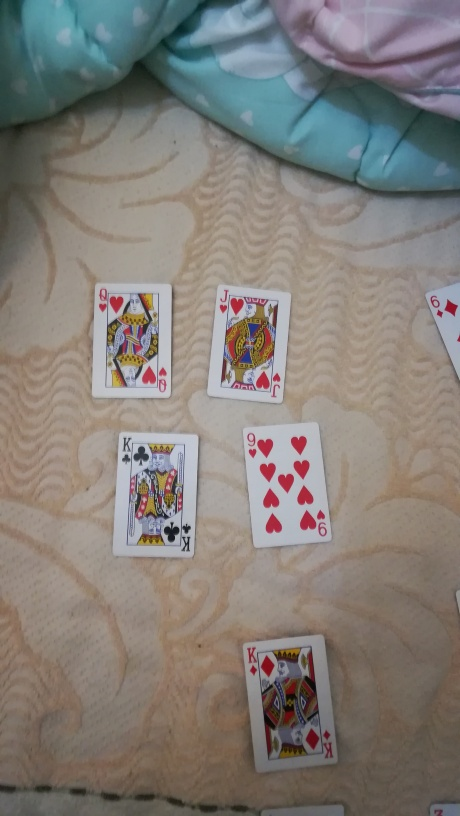fk k: (233, 629, 343, 773)
hx 9: (235, 422, 336, 549)
hx j: (206, 278, 298, 405)
hx q: (81, 280, 178, 402)
mh k: (105, 432, 201, 567)
